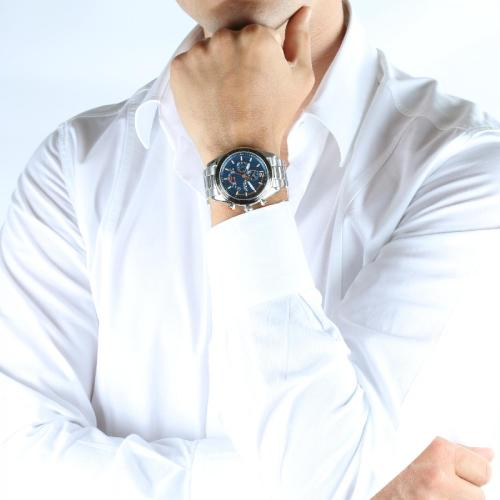clock: (219, 151, 268, 199)
